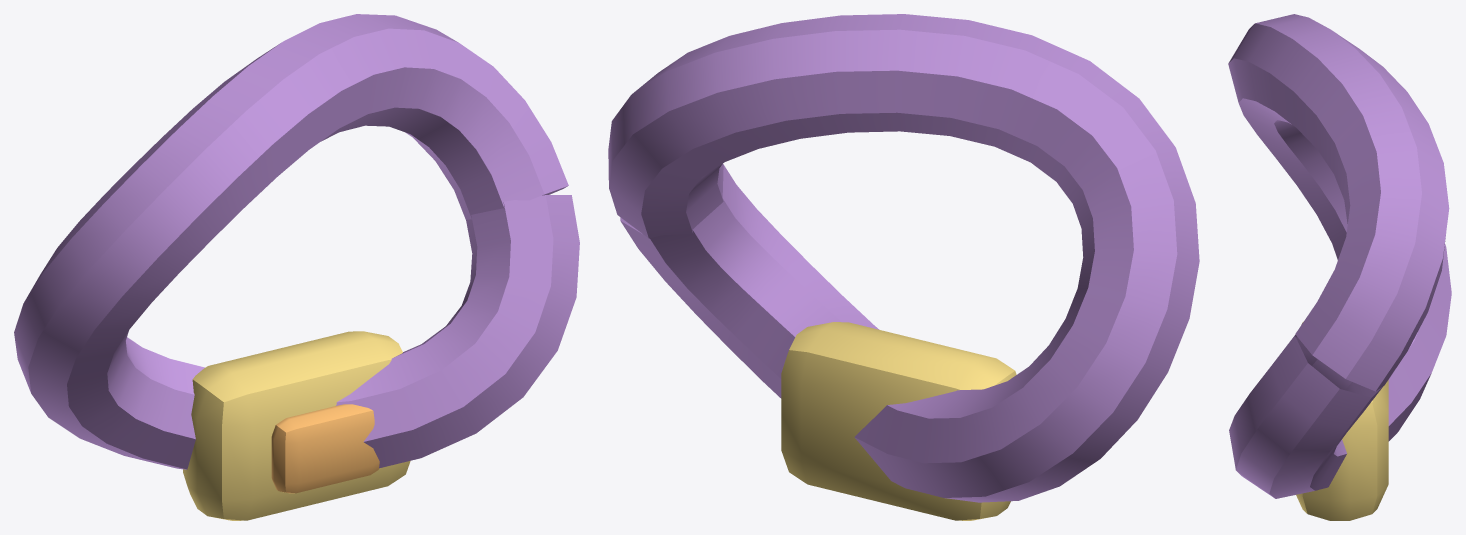
File: ITEM_Seatbelt.fbx
The picture shows the model from 3 angles, left to right: view 1: azimuth 30°, elevation 25°; view 2: azimuth 150°, elevation 25°; view 3: azimuth 270°, elevation 25°; orthographic projection. The views are drawn at different scales.
Visible parts, largest first — view 1: ITEM_Seatbelt; view 2: ITEM_Seatbelt; view 3: ITEM_Seatbelt.
Part boxes in pixels (x1=…): ITEM_Seatbelt: x1=14, y1=14, x2=579, y2=520; ITEM_Seatbelt: x1=608, y1=14, x2=1199, y2=520; ITEM_Seatbelt: x1=1228, y1=14, x2=1451, y2=520.
Bounding box in the file's own units: 0.607 × 0.4923 × 0.2291.
